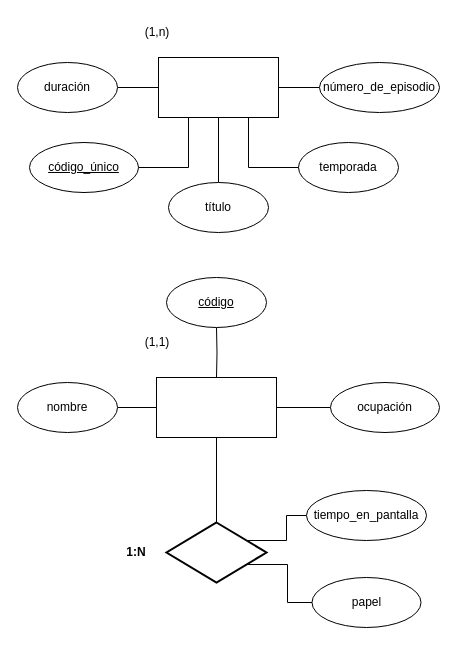
Image size: 457x645. Some labels were removed from this diagram. Here are the shapes that lost their labels. From the top down, the box of each, then its label:
(158, 56, 278, 118): EPISODIO
(156, 376, 276, 438): PERSONAJE
(165, 521, 267, 583): aparece en
